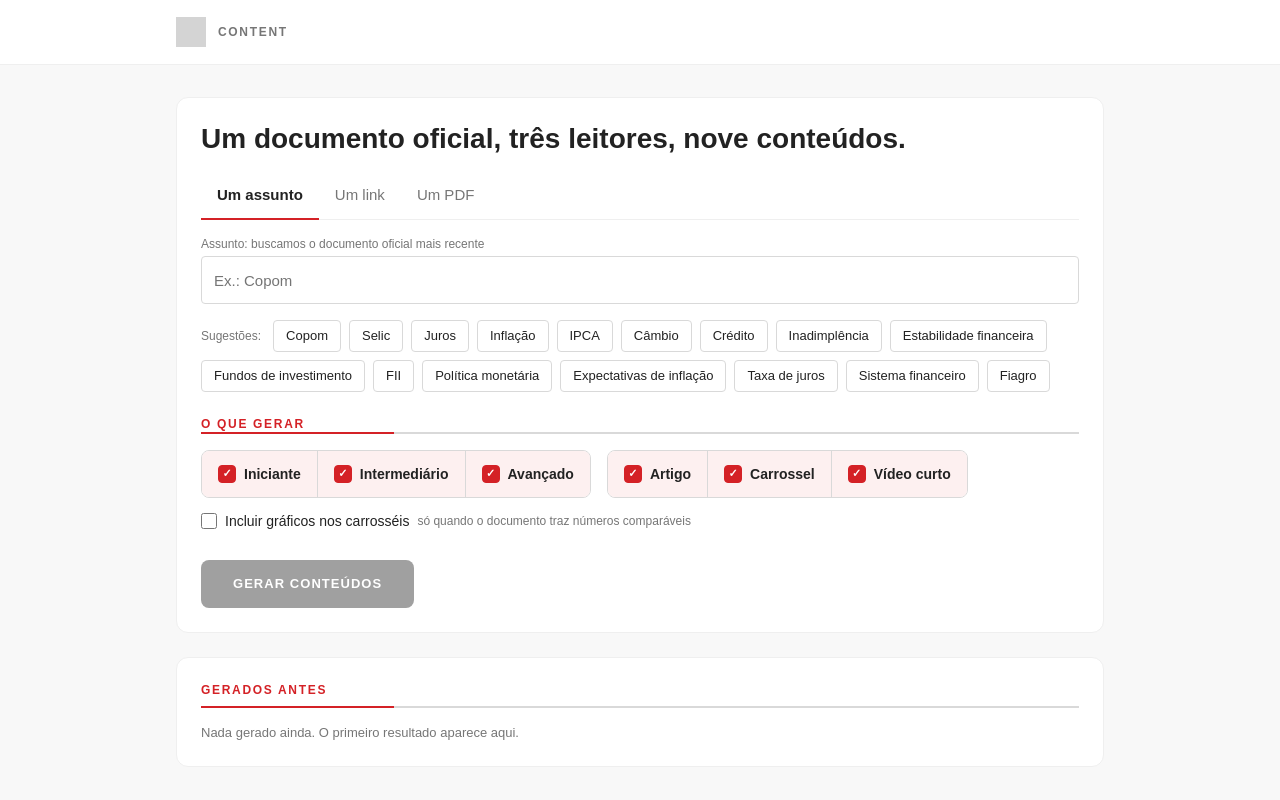
Scenario: App › cancelar fecha a conexão, avisa o servidor e volta ao formulário
Step 1. Type "Copom" into the field labelled "Assunto: buscamos o documento oficial mais recente" → (640, 280), box [201,256,1079,304]
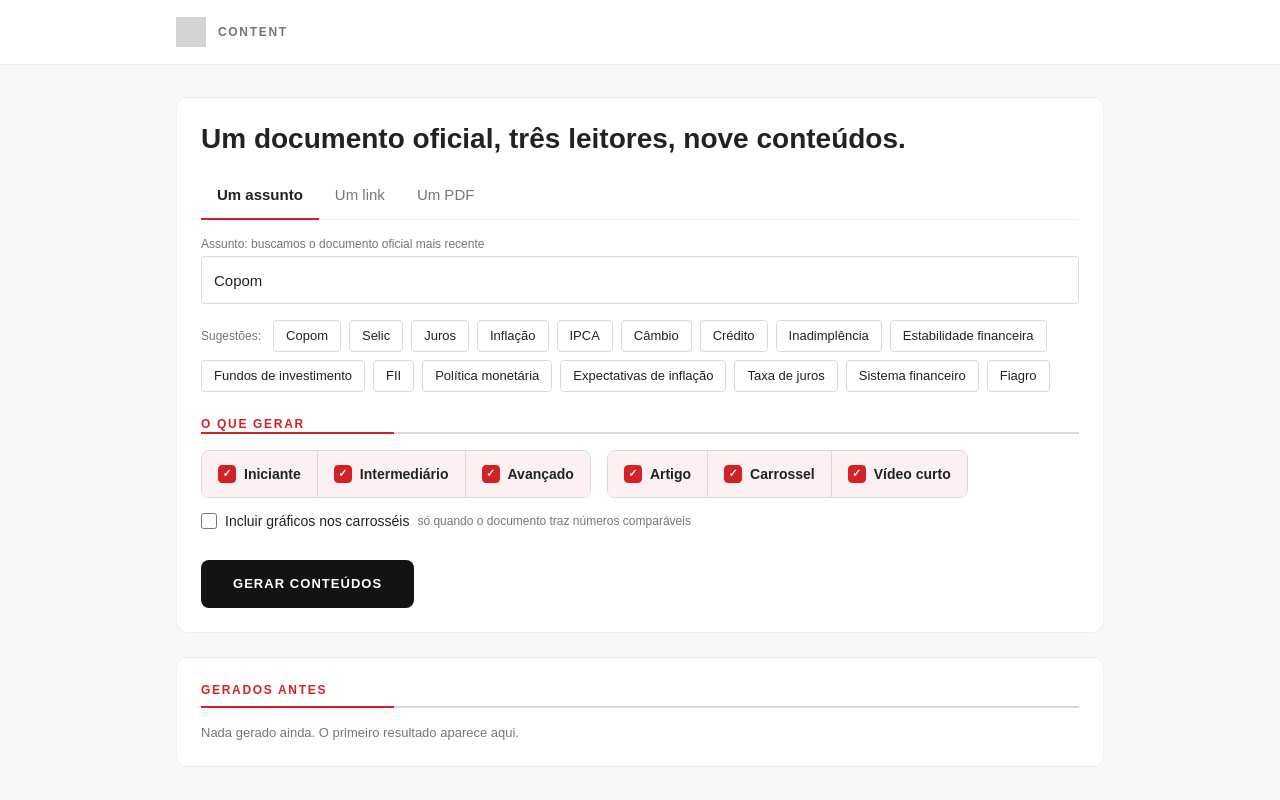
Step 2. Click the button "Gerar conteúdos" → (308, 584), box [201,560,414,608]
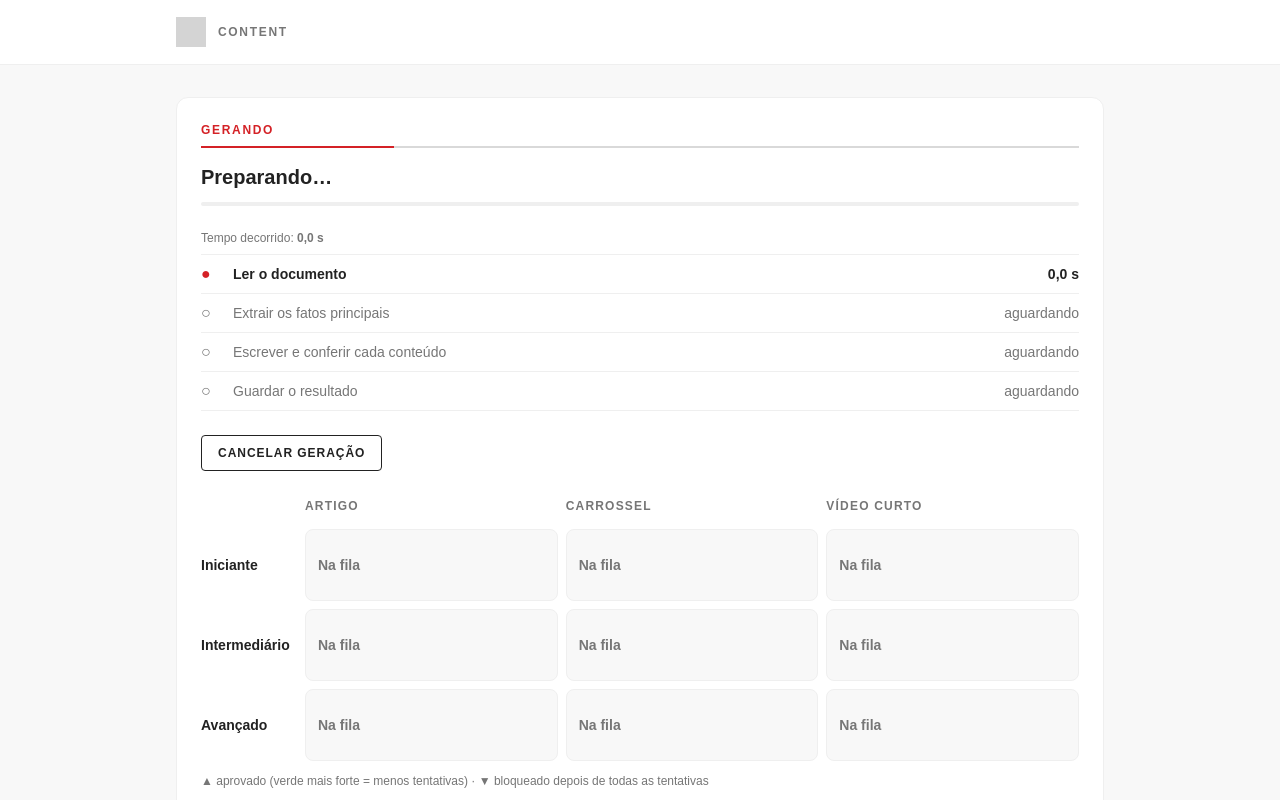
Expected: the heading "Gerando" is shown, [201,123,274,137]
Step 3. Click the button "Cancelar geração" → (292, 453), box [201,435,382,471]
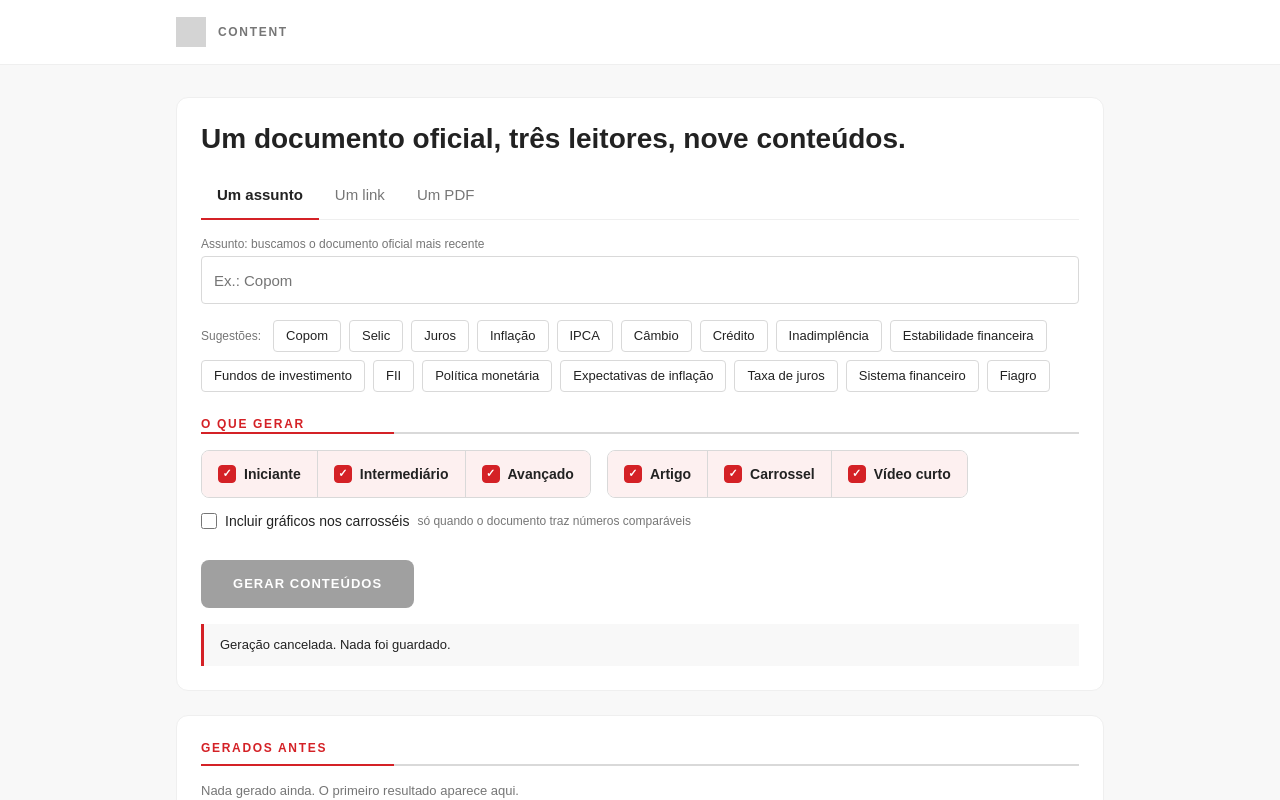
Expected: the text "Geração cancelada. Nada foi guardado." is shown, [201,624,1079,666]
Expected: the field labelled "Assunto: buscamos o documento oficial mais recente" is shown, [201,256,1079,304]
